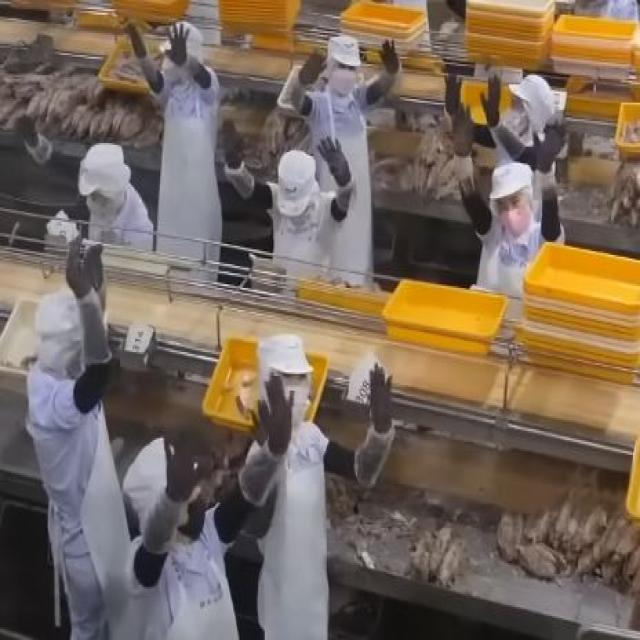gloved_hand: (155, 426, 215, 504), (252, 377, 302, 456), (358, 359, 403, 436), (315, 129, 359, 186), (530, 112, 570, 172), (154, 16, 196, 69), (157, 17, 199, 67), (477, 70, 508, 131), (84, 237, 114, 293), (63, 239, 88, 304), (296, 48, 334, 89), (437, 63, 465, 113), (372, 38, 406, 74)
